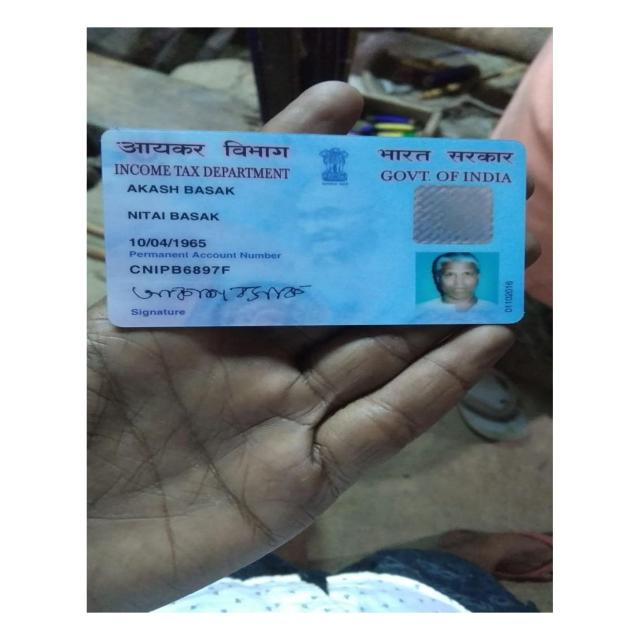pan_card: (99, 130, 528, 327)
